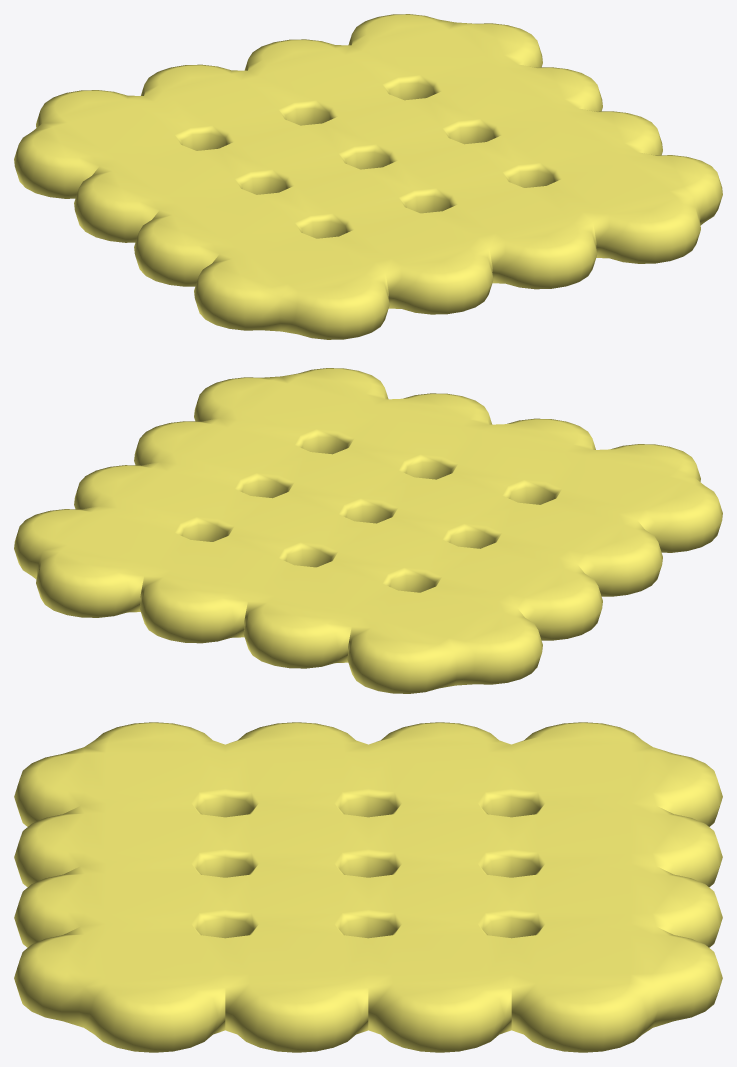
File: Cookie_3.fbx
3 views of the same model, one above another, from view 1: azimuth 30°, elevation 25°; view 2: azimuth 150°, elevation 25°; view 3: azimuth 270°, elevation 25° (orthographic). The views are drawn at different scales.
Visible parts, largest first — view 1: Cookie_3; view 2: Cookie_3; view 3: Cookie_3.
Boxes of the visible parts, x1,y1,x2,y2 form: Cookie_3: [14, 14, 722, 339]; Cookie_3: [14, 368, 722, 693]; Cookie_3: [14, 722, 722, 1052].
Bounding box in the file's own units: 12.28 × 0.9187 × 12.29.
